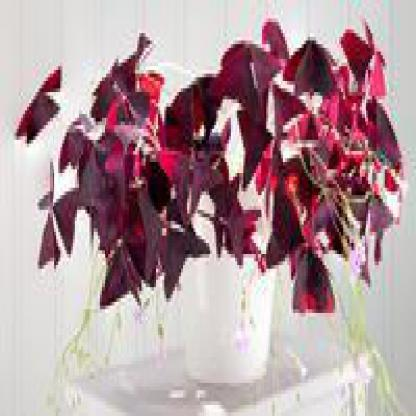Kupu-Kupu: (134, 200, 201, 288), (226, 49, 272, 174), (107, 64, 157, 148), (18, 64, 61, 148), (288, 241, 334, 311), (294, 34, 336, 101), (38, 178, 74, 255)
